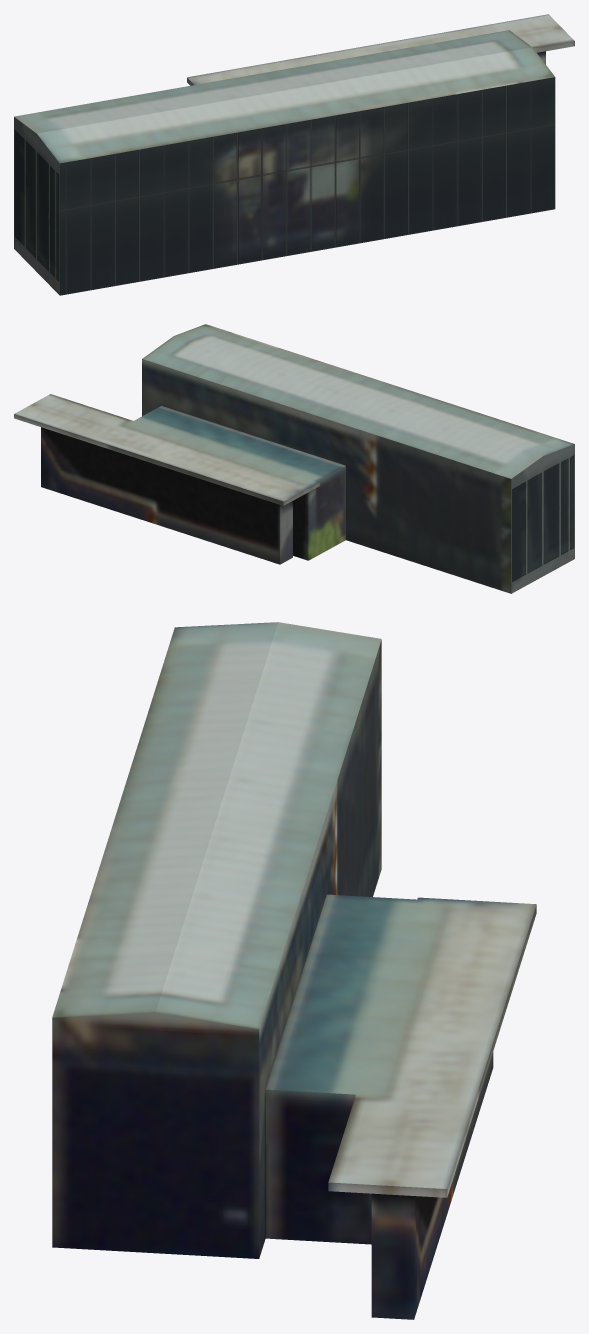
The picture shows the model from 3 angles, top to bottom: view 1: azimuth 30°, elevation 25°; view 2: azimuth 150°, elevation 25°; view 3: azimuth 270°, elevation 25°; orthographic projection. The views are drawn at different scales.
Visible parts, largest first — view 1: 7_0.glb; view 2: 7_0.glb; view 3: 7_0.glb.
Part boxes in pixels (box(x1,y1,x2,y2)): 7_0.glb: box(14, 14, 574, 295); 7_0.glb: box(14, 324, 574, 593); 7_0.glb: box(52, 622, 536, 1319).
Bounding box in the file's own units: 29.5 × 6.89 × 12.56.
Materials: 3 (3 with a texture image).
